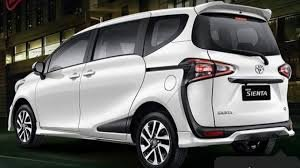mobil: (6, 1, 295, 165)
